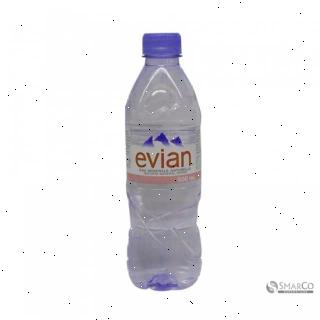Plastic-bottle: (119, 28, 213, 298)
